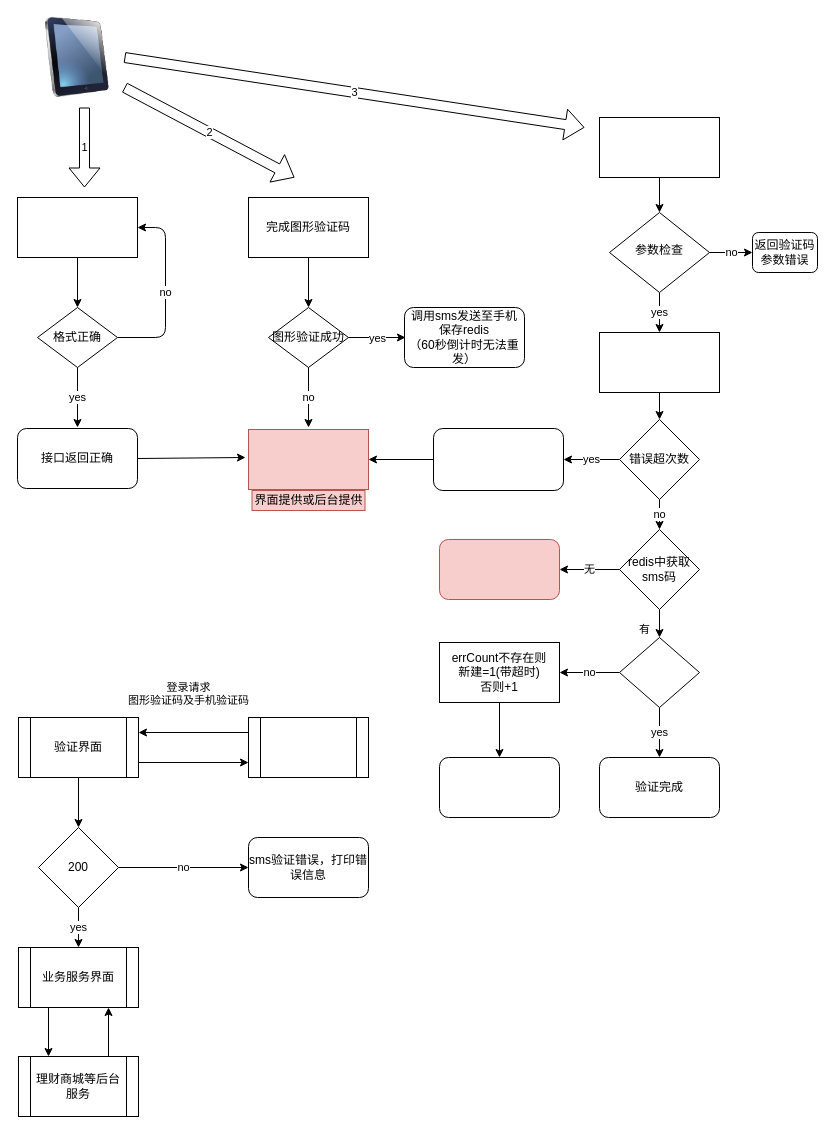
Image size: 835x1134. Some labels were removed from this diagram. Here are the shapes that lost their labels. From the top down, the centre of each, then its label:
At point 659,147: "输入sms验证码".
At point 77,227: "输入手机号".
At point 659,362: "redis获取 登录错误次数errCount".
At point 308,459: "显示图形验证码 (或滑动窗口验证码)".
At point 498,459: "返回错误 提示错误超次数，sms失效，清除redis中sms和errCount".
At point 499,569: "返回错误 提示已超时或未发送 清空errCount".
At point 659,672: "比较是否正确".
At point 308,747: "验证服务".
At point 499,787: "返回错误 次数与可错误次数".
